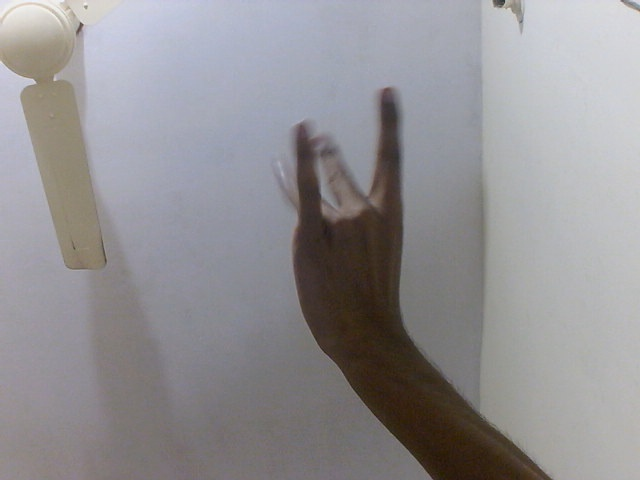hand: (266, 82, 422, 355)
